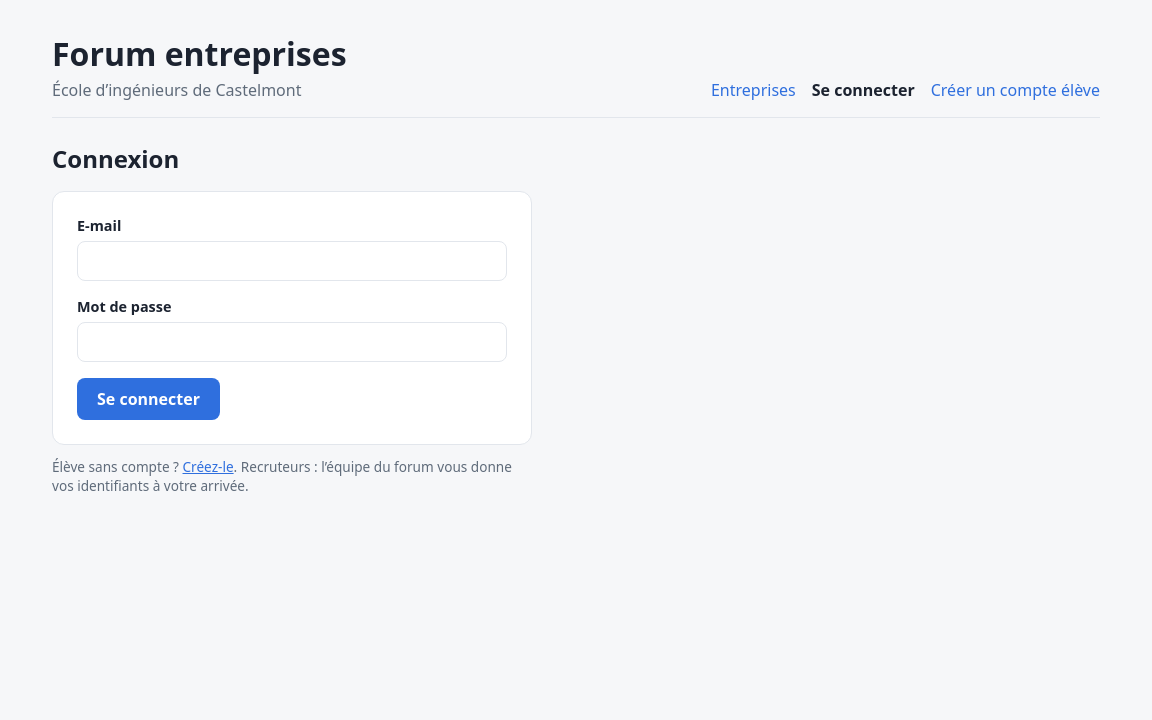
Test case: LoginPage › says so on a wrong password, and stays logged out
Type "camille@etu.test" into the field labelled "E-mail" at (292, 261), box x1=77 y1=241 x2=507 y2=281
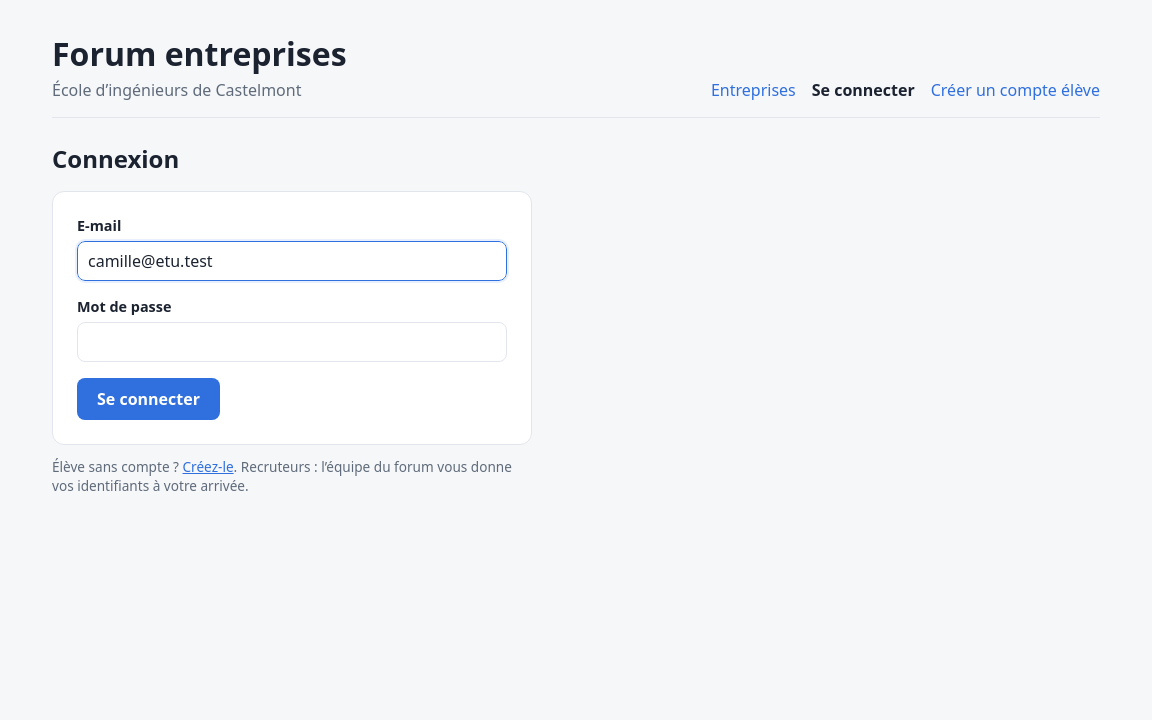
Type "wrong" into the password field labelled "Mot de passe" at (292, 342), box x1=77 y1=322 x2=507 y2=362
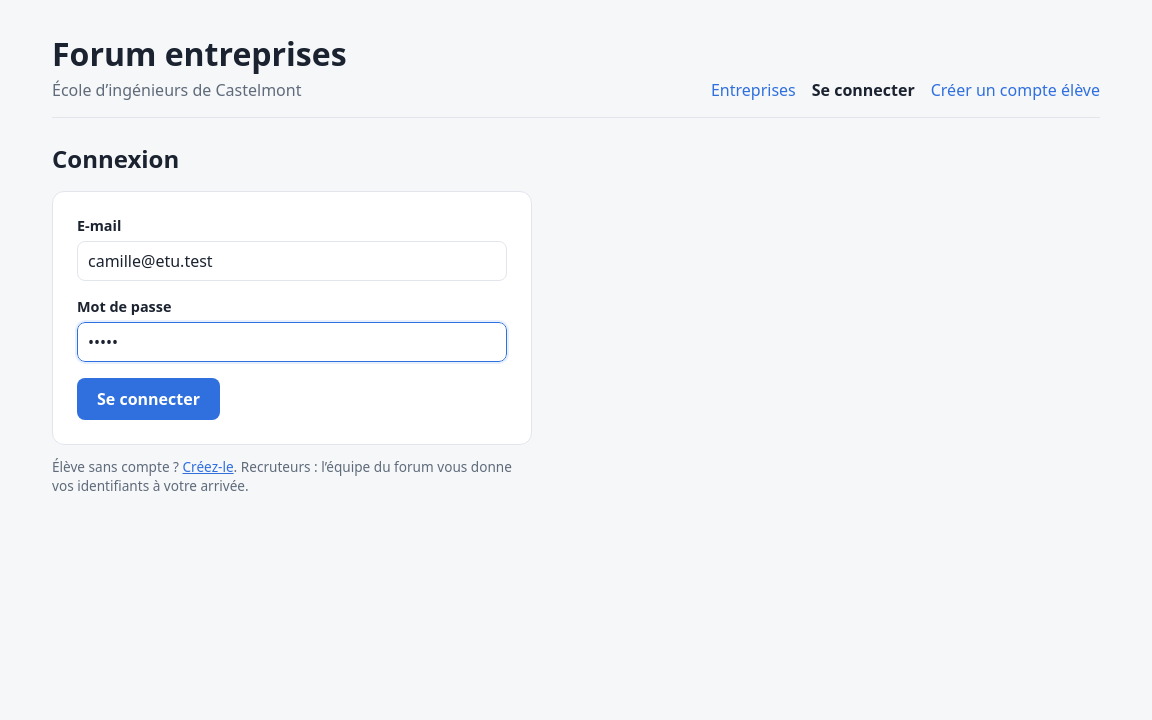
Click the button "Se connecter" at (148, 399), box x1=77 y1=378 x2=220 y2=420
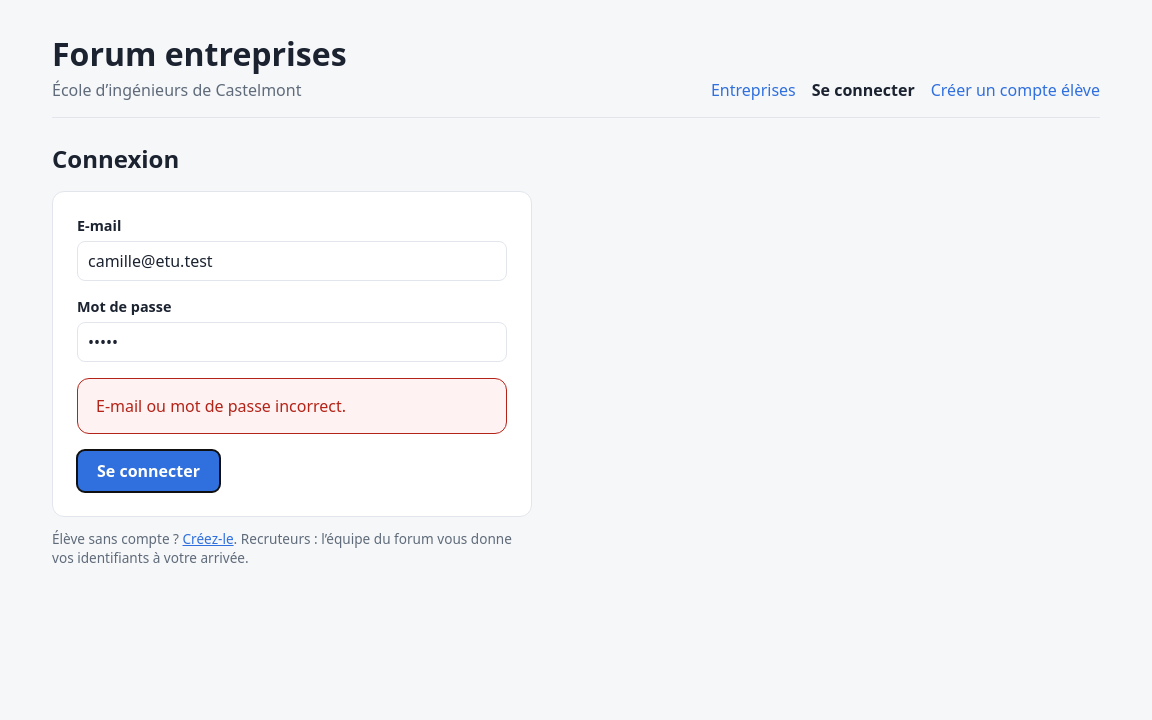
expect the message reads "E-mail ou mot de passe incorrect.": met, box x1=96 y1=395 x2=346 y2=417
